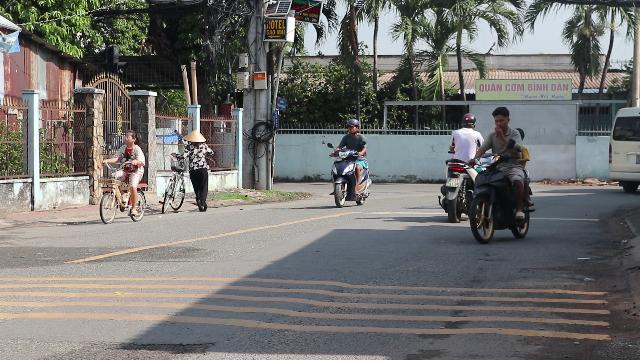helmet: (460, 114, 476, 128)
licenseplate: (446, 178, 460, 186)
motorcyclist: (469, 105, 536, 242), (438, 112, 482, 220)
nohelmet: (491, 105, 511, 131)
